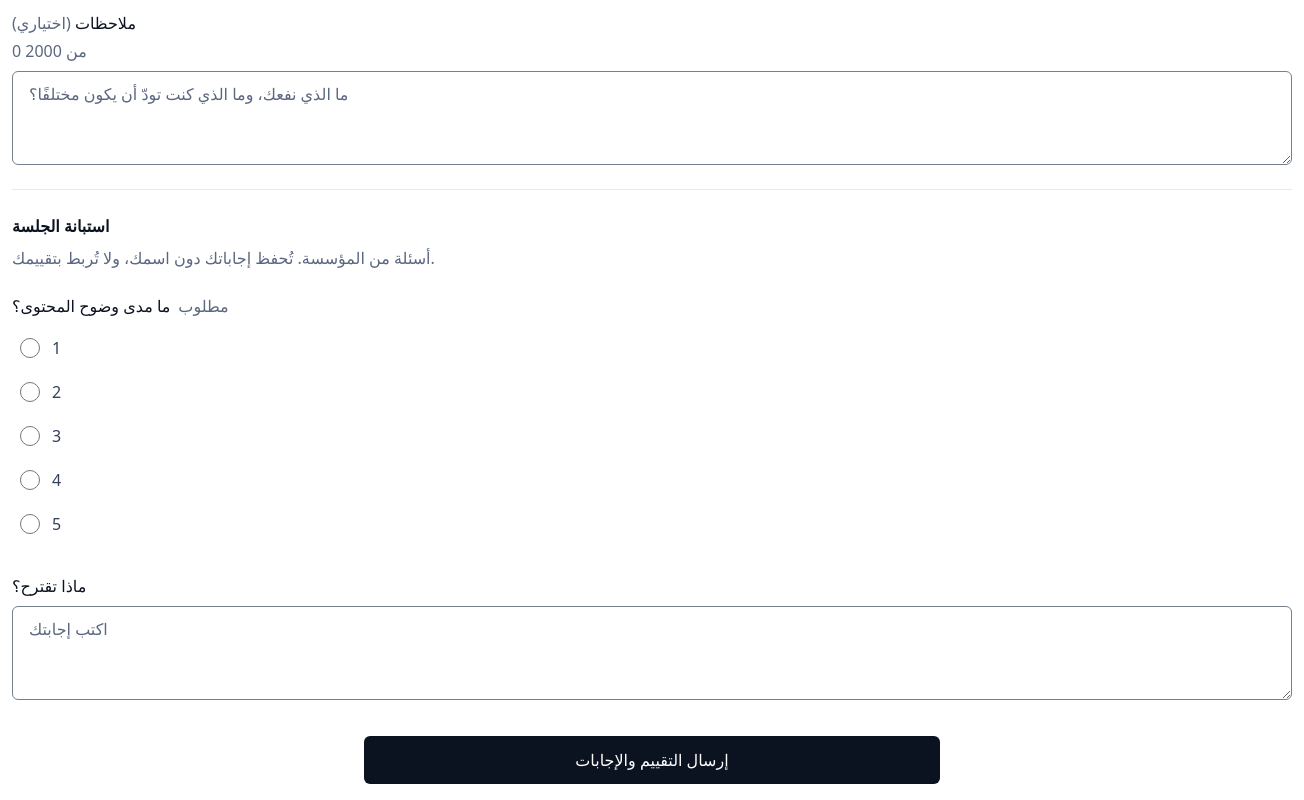
Test: RateForm when the survey is refused and the rating is not › a refused WRITE is still the red alert, and still says a write did not happen
(page scrolled)
Click the button "إرسال التقييم والإجابات" at (652, 760), box 364,736 -> 940,784
(page scrolled)
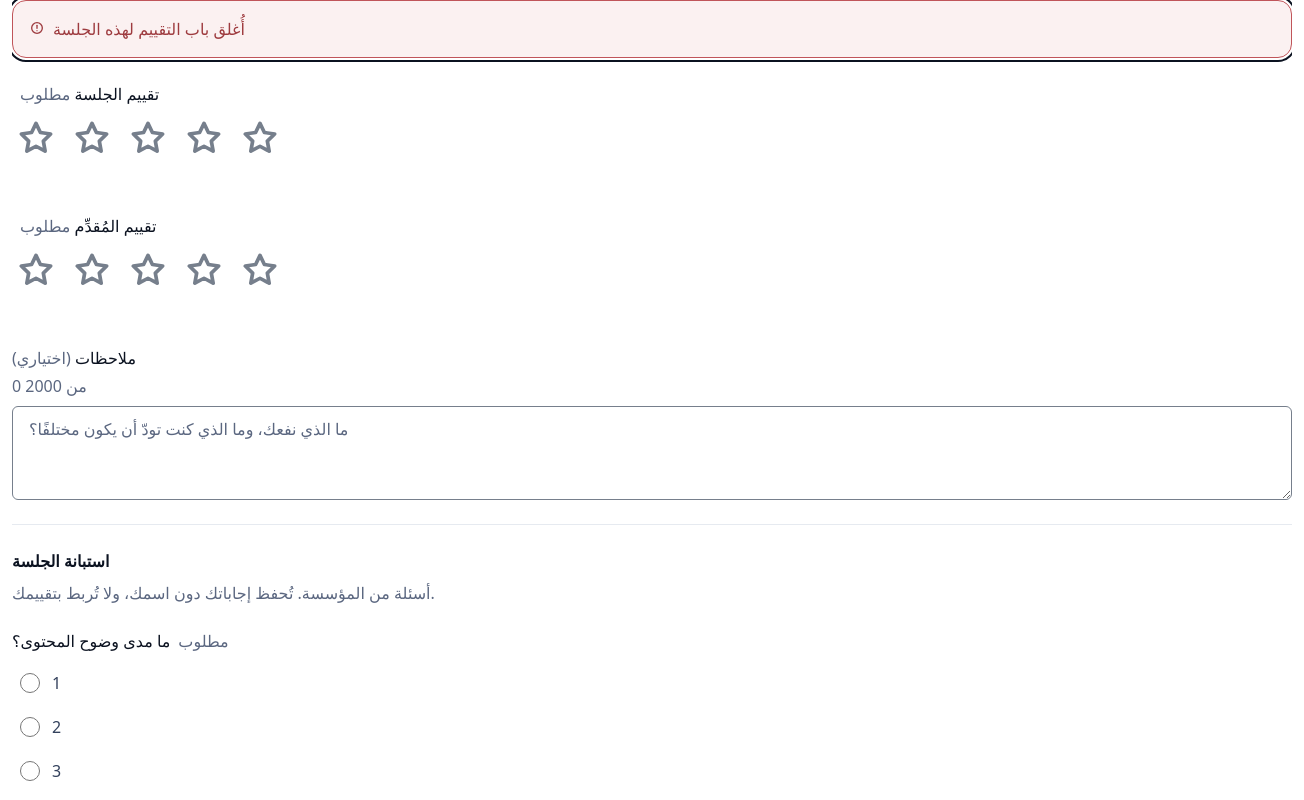
Expected: the message does not show "حُفظ تقييمك", 12,0 -> 1292,58
Expected: the message reads "أُغلق باب التقييم لهذه الجلسة", 53,18 -> 245,40
